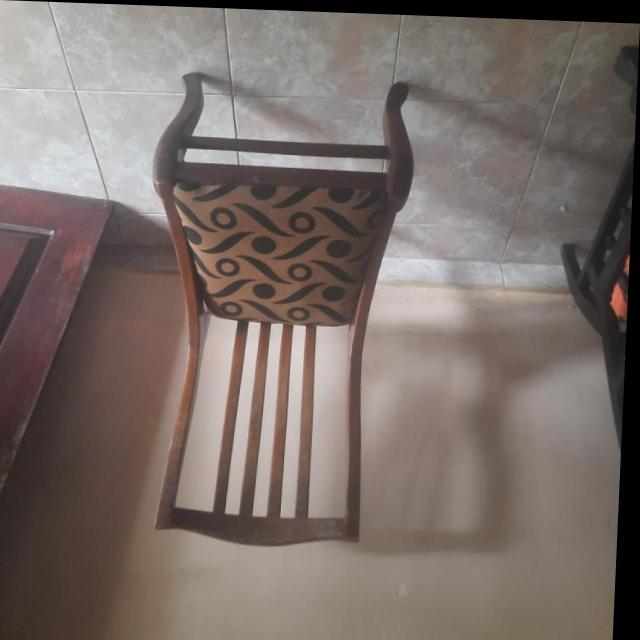Chair: (140, 71, 417, 549)
